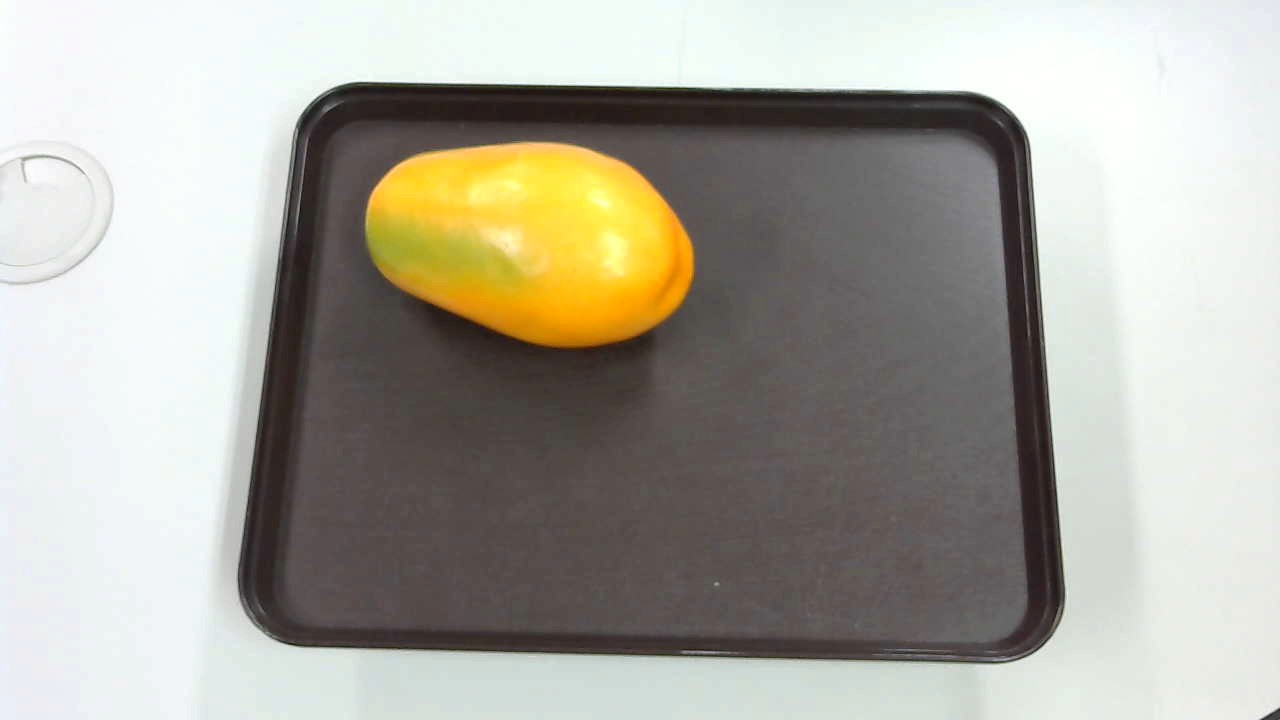papya: (352, 139, 701, 359)
